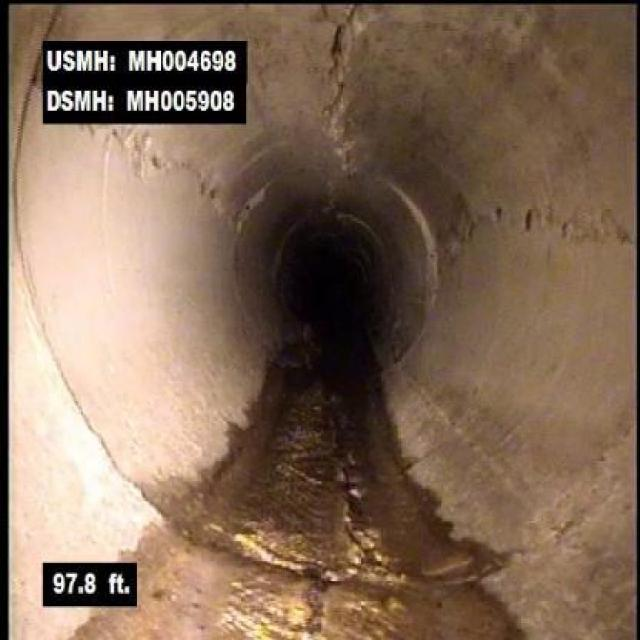Buckling: (309, 3, 368, 165)
Crack: (442, 191, 632, 249), (129, 134, 237, 231)
